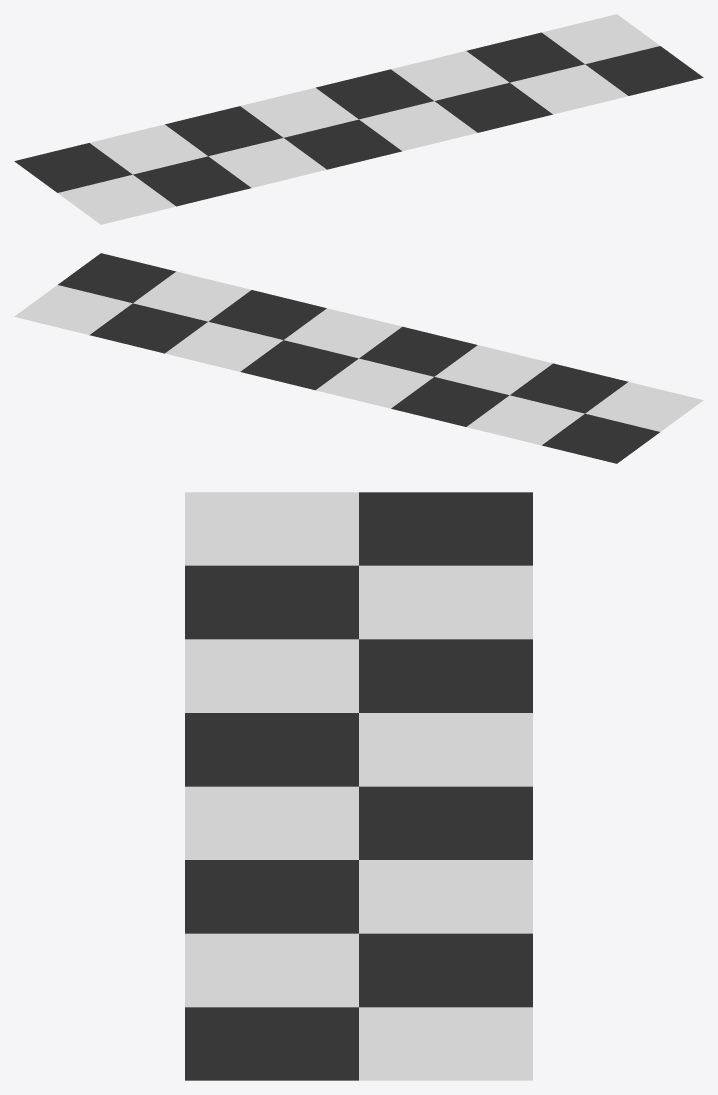
The model's file is Finish_Line_02.fbx.
3 views of the same model, one above another, from view 1: azimuth 30°, elevation 25°; view 2: azimuth 150°, elevation 25°; view 3: azimuth 270°, elevation 25° (orthographic). The views are drawn at different scales.
Visible parts, largest first — view 1: Finish_Line_02; view 2: Finish_Line_02; view 3: Finish_Line_02.
Boxes of the visible parts, box(x1,y1,x2,y2) form: Finish_Line_02: box(14, 14, 703, 224); Finish_Line_02: box(14, 253, 703, 463); Finish_Line_02: box(185, 492, 532, 1080).
Bounding box in the file's own units: 800 × 200 × 4.19e-22.
